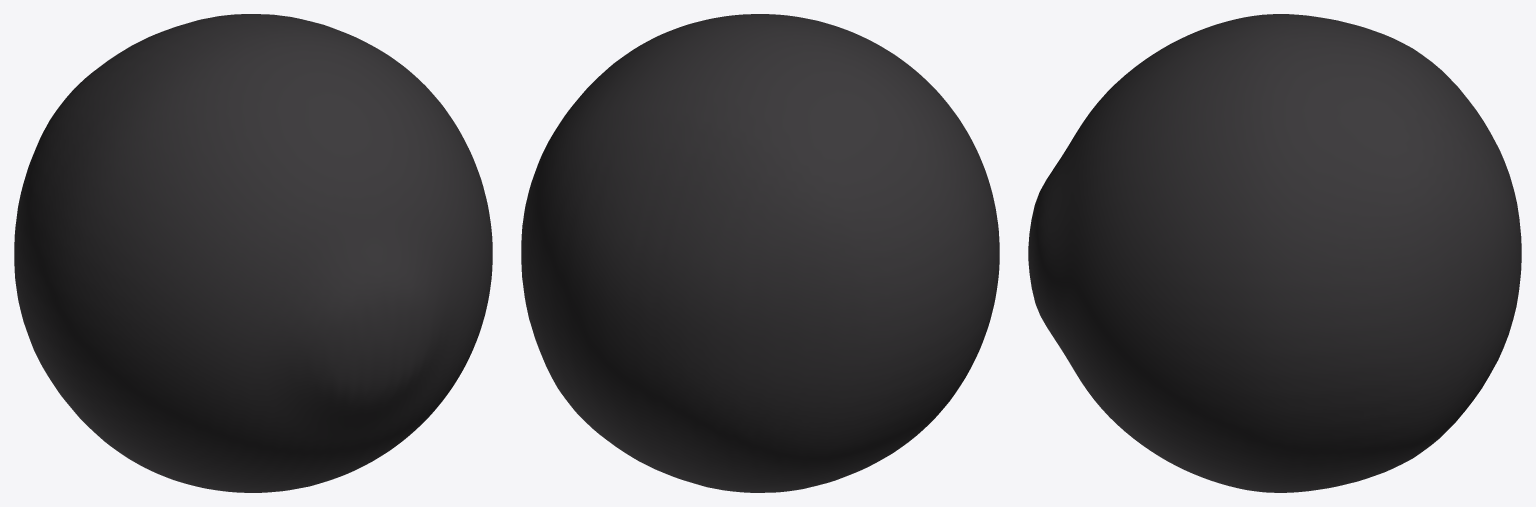
3 renders of one model, left to right at view 1: azimuth 30°, elevation 25°; view 2: azimuth 150°, elevation 25°; view 3: azimuth 270°, elevation 25°, orthographic.
Parts seen in each view (by area): view 1: Cornea_V5; view 2: Cornea_V5; view 3: Cornea_V5.
Part boxes in pixels (x1,y1,x2,y2): Cornea_V5: (14, 14, 492, 492); Cornea_V5: (521, 14, 999, 492); Cornea_V5: (1028, 14, 1521, 492).
Size of the model in its own units: 0.3026 by 0.3029 by 0.3116.
3 materials, 3 textured.
